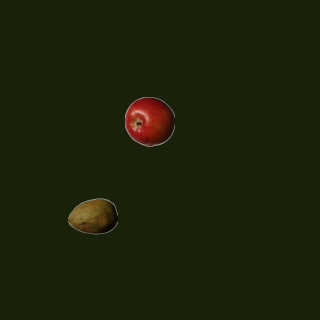Apple Braeburn: (124, 96, 174, 146)
Papaya: (67, 191, 117, 241)
